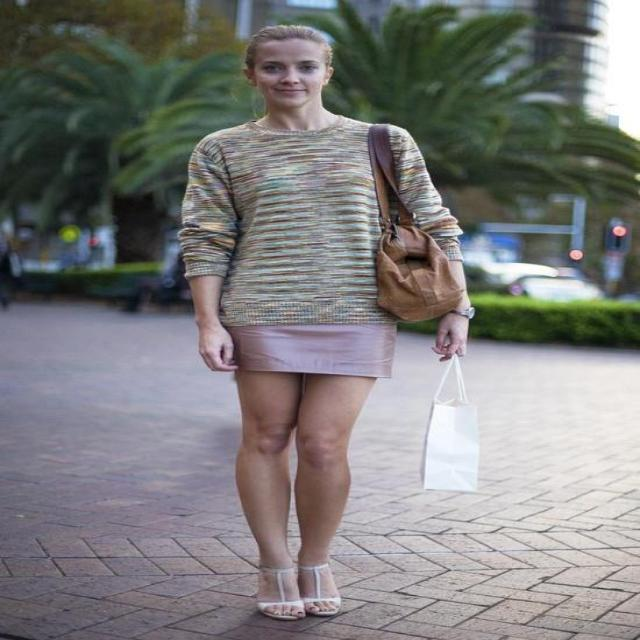skirt: (226, 305, 399, 378)
sweater: (180, 116, 463, 326)
